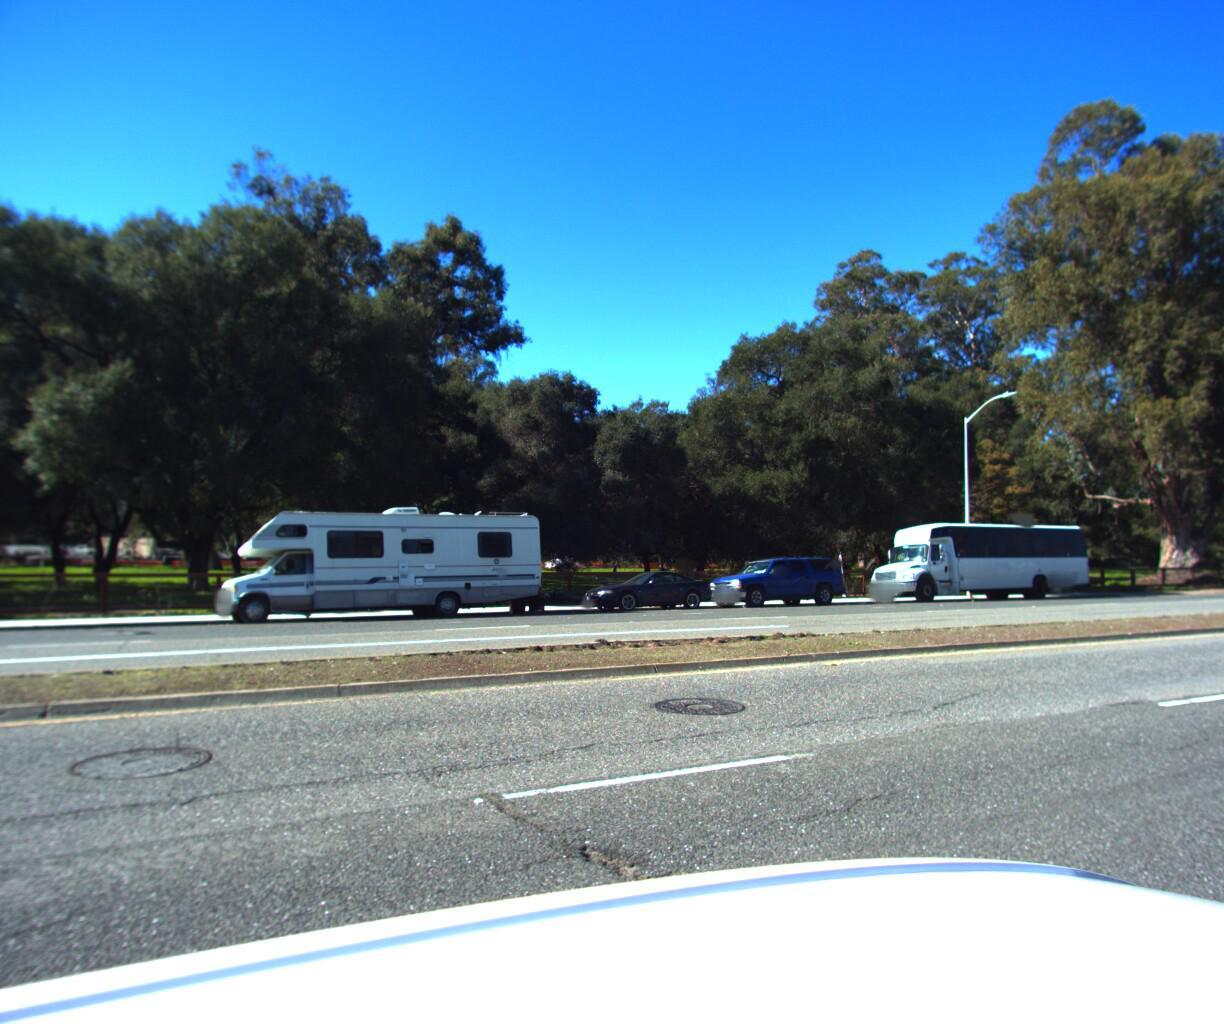bus: (849, 513, 1094, 602)
car: (693, 550, 855, 609), (572, 566, 724, 614)
other_vehicle: (203, 493, 554, 633), (529, 567, 580, 615)
